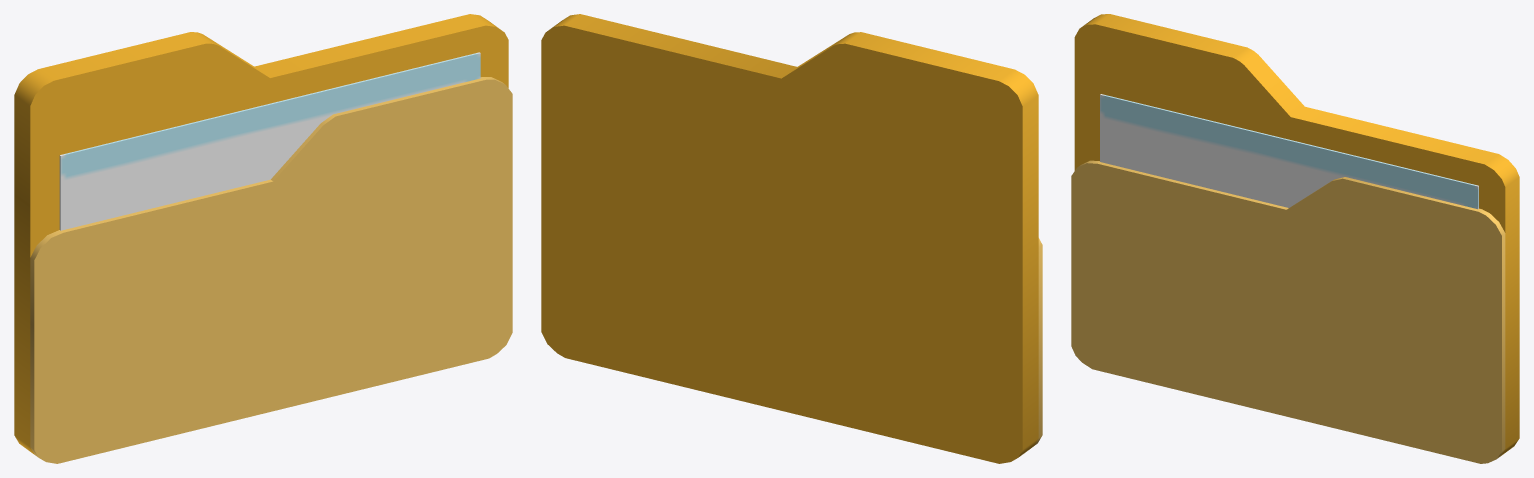
The model's file is folder_3d.glb.
3 views of the same model, side by side, from view 1: azimuth 30°, elevation 25°; view 2: azimuth 150°, elevation 25°; view 3: azimuth 330°, elevation 25° (orthographic). The views are drawn at different scales.
Visible parts, largest first — view 1: Line001; view 2: Line001; view 3: Line001.
Part boxes in pixels (bbox=[...]): Line001: bbox=[14, 14, 512, 463]; Line001: bbox=[541, 14, 1042, 463]; Line001: bbox=[1071, 14, 1519, 463].
Bounding box in the file's own units: 0.1206 × 0.0916 × 0.00859.
1 material, 1 textured.
